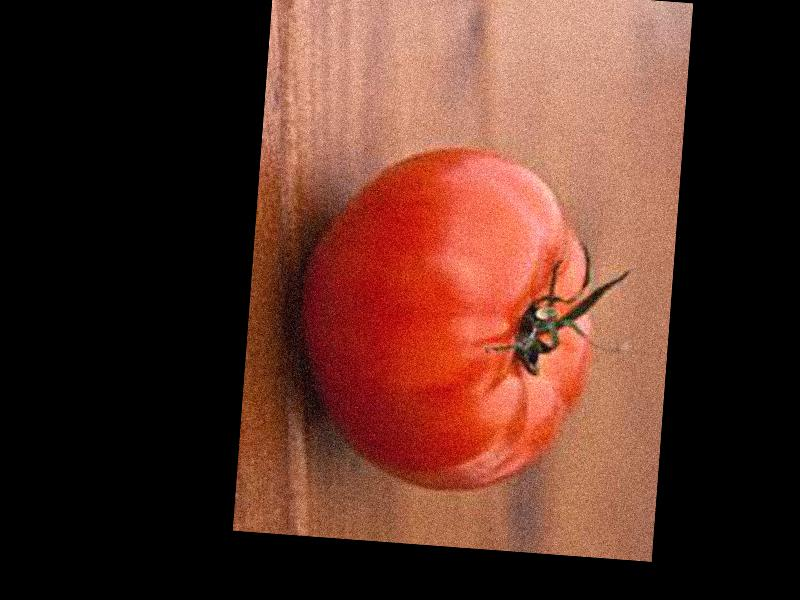Tomato: (289, 134, 605, 498)
